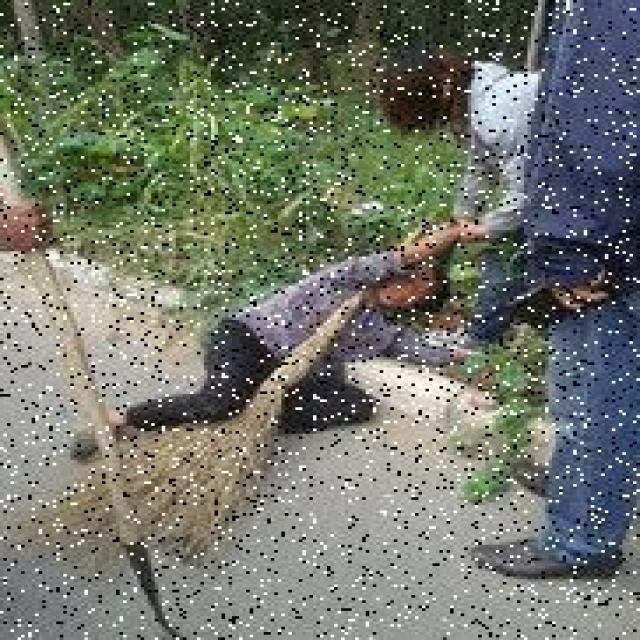fall: (81, 233, 461, 447)
